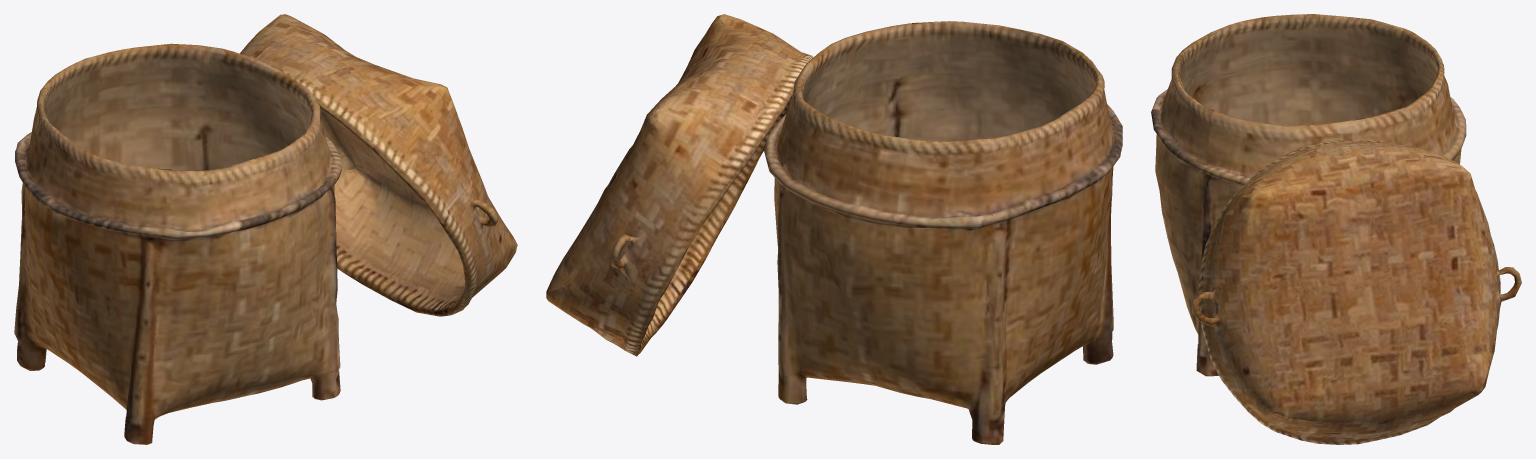
File: wicker_basket_02.gltf
3 views of the same model, side by side, from view 1: azimuth 30°, elevation 25°; view 2: azimuth 150°, elevation 25°; view 3: azimuth 270°, elevation 25° (orthographic). The views are drawn at different scales.
Visible parts, largest first — view 1: wicker_basket_02_base, wicker_basket_02_lid; view 2: wicker_basket_02_base, wicker_basket_02_lid; view 3: wicker_basket_02_lid, wicker_basket_02_base.
Boxes of the visible parts, x1=… form: wicker_basket_02_base: x1=14, y1=43, x2=341, y2=444; wicker_basket_02_lid: x1=240, y1=14, x2=517, y2=316; wicker_basket_02_base: x1=764, y1=21, x2=1122, y2=444; wicker_basket_02_lid: x1=546, y1=14, x2=813, y2=356; wicker_basket_02_lid: x1=1192, y1=140, x2=1521, y2=444; wicker_basket_02_base: x1=1151, y1=14, x2=1466, y2=376.
Bounding box in the file's own units: 0.3465 × 0.2005 × 0.2545.
1 material, 1 textured.
